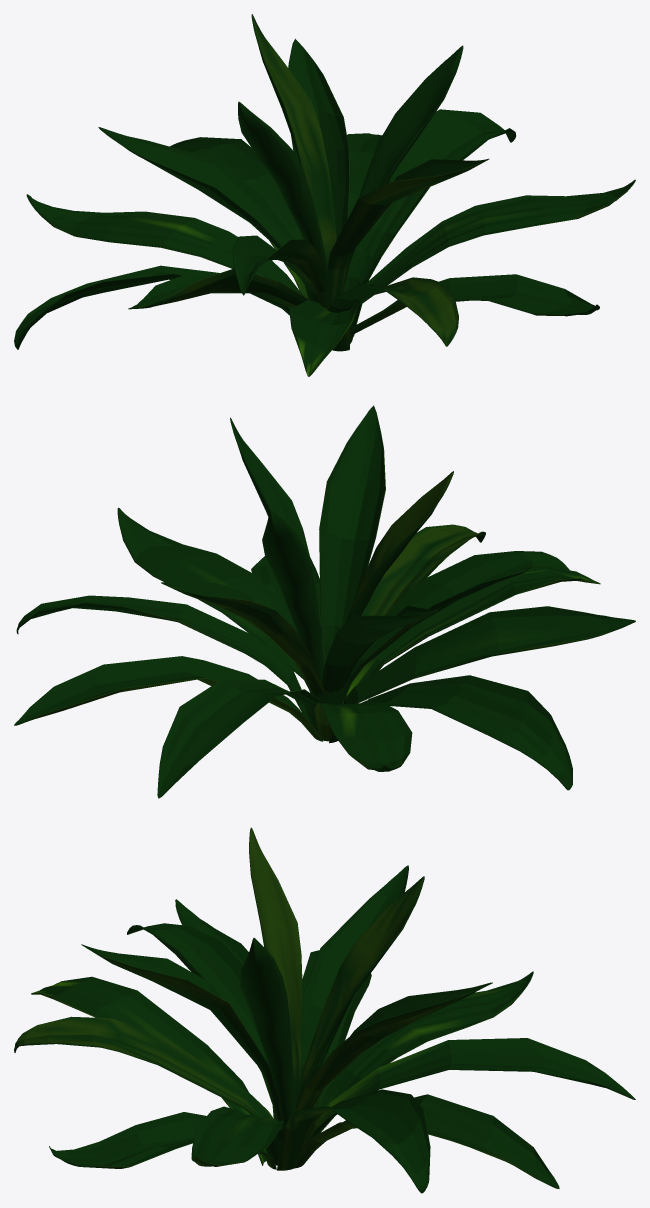
The model's file is maguey blanco.glb.
The picture shows the model from 3 angles, top to bottom: view 1: azimuth 30°, elevation 25°; view 2: azimuth 150°, elevation 25°; view 3: azimuth 270°, elevation 25°; orthographic projection.
Parts seen in each view (by area): view 1: Agave; view 2: Agave; view 3: Agave.
Boxes of the visible parts, bbox=[...] form: Agave: bbox=[14, 14, 635, 376]; Agave: bbox=[14, 405, 635, 798]; Agave: bbox=[14, 827, 635, 1193].
Size of the model in its own units: 1.05 by 0.5223 by 1.04.
